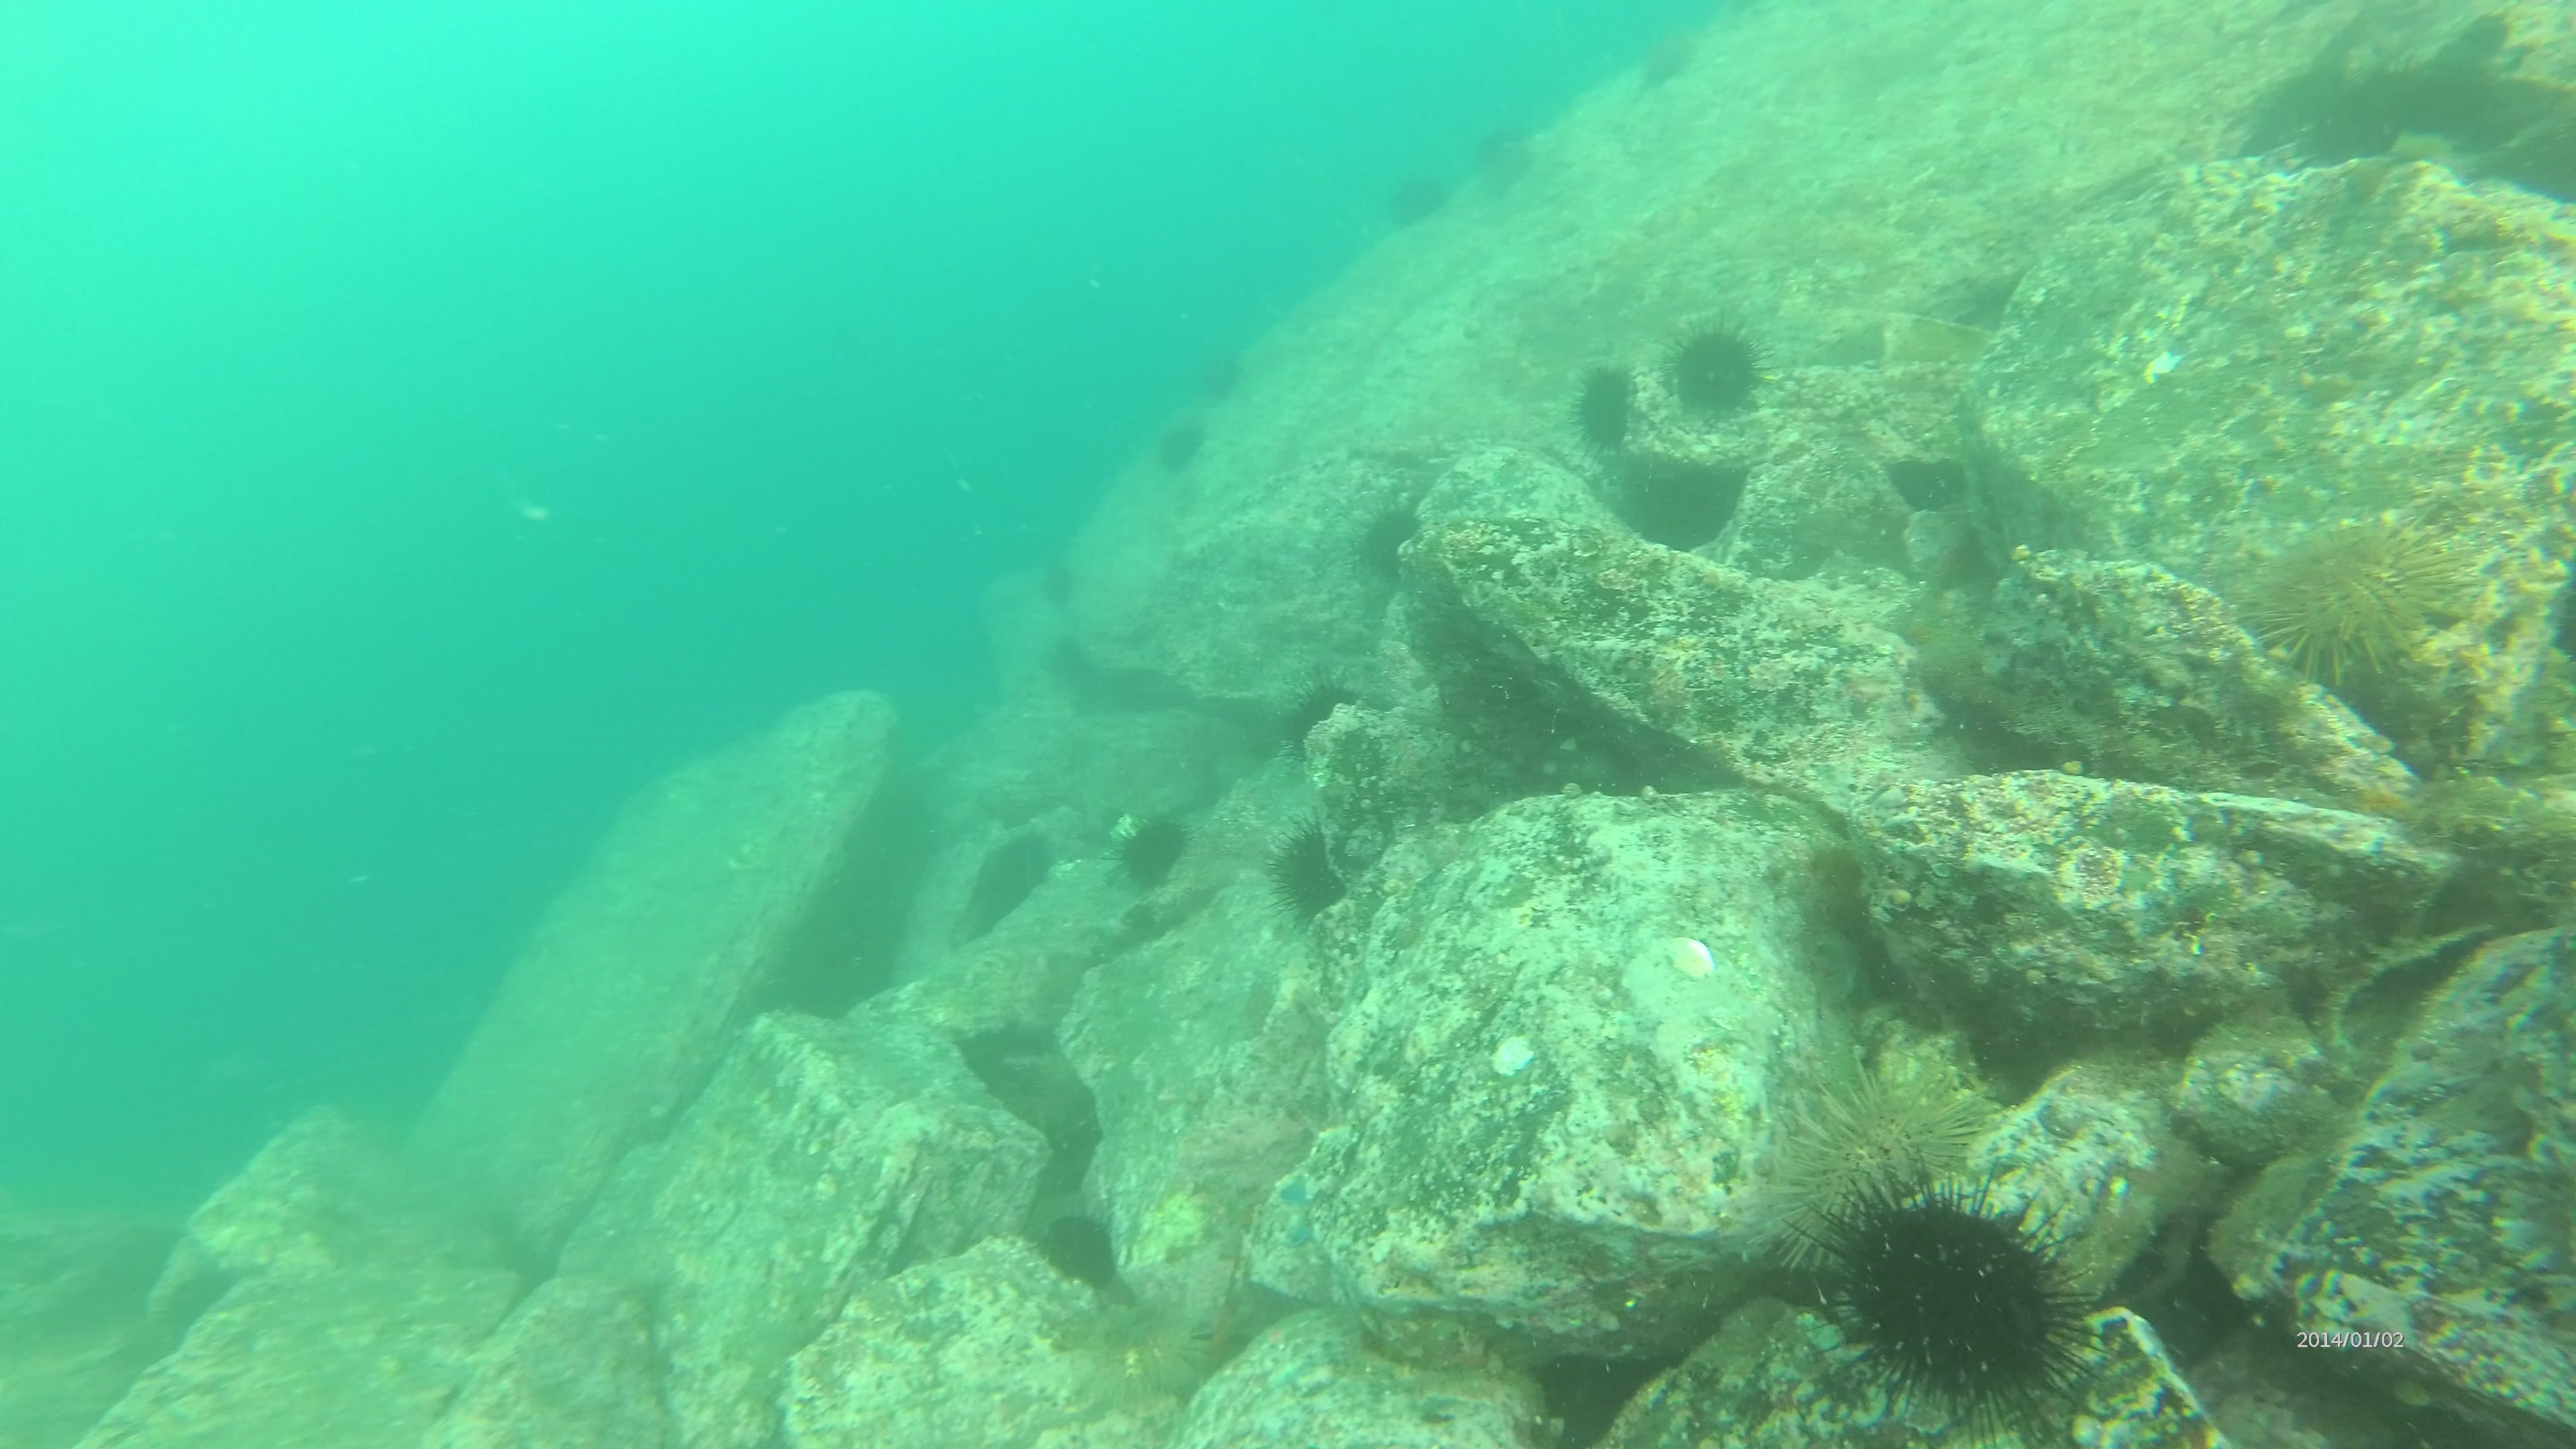echinus: (1785, 1164, 2121, 1430), (1762, 1035, 1994, 1270), (2247, 511, 2468, 692), (1658, 318, 1773, 428), (1260, 817, 1348, 931), (1350, 495, 1435, 580), (1111, 810, 1191, 893), (1575, 359, 1640, 453), (1465, 126, 1546, 200), (1645, 23, 1697, 92), (1391, 172, 1451, 228), (1161, 419, 1210, 472), (1194, 354, 1240, 403)
